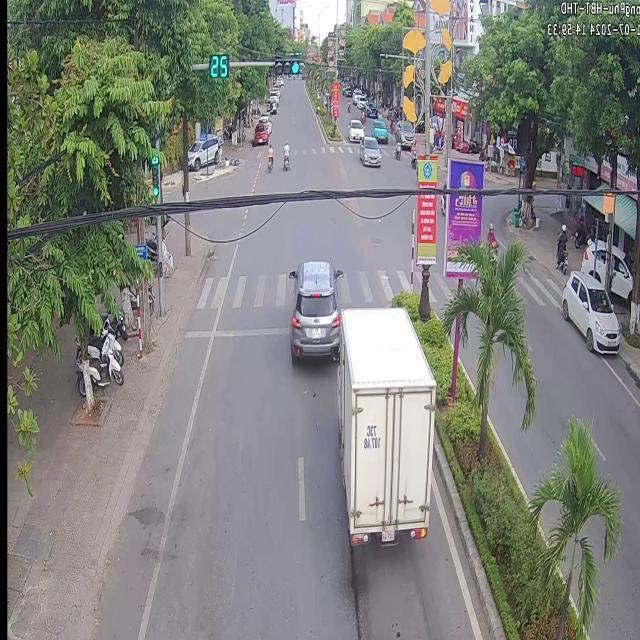car: (336, 307, 434, 542), (288, 258, 340, 362), (358, 134, 379, 164), (346, 118, 363, 140)
green_light: (147, 149, 158, 198), (272, 54, 298, 74)
motobike: (282, 140, 288, 169), (266, 142, 272, 171)
stop_line: (181, 326, 287, 336)
